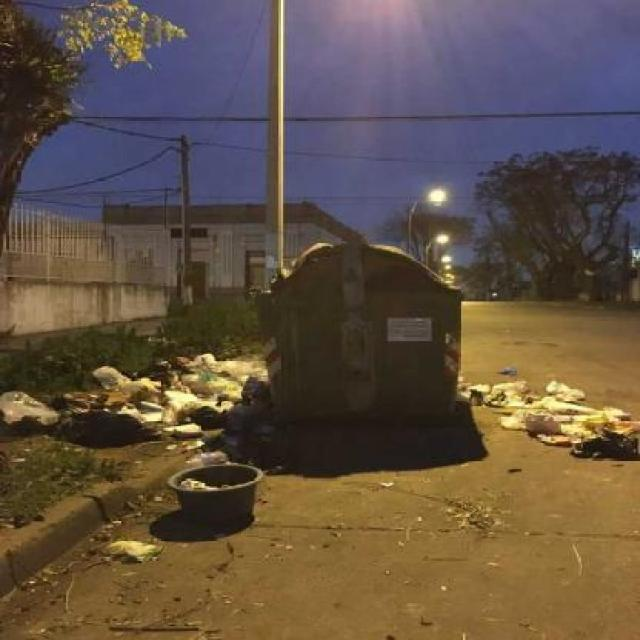garbage: (16, 331, 306, 564), (456, 356, 640, 483), (0, 375, 84, 433)
